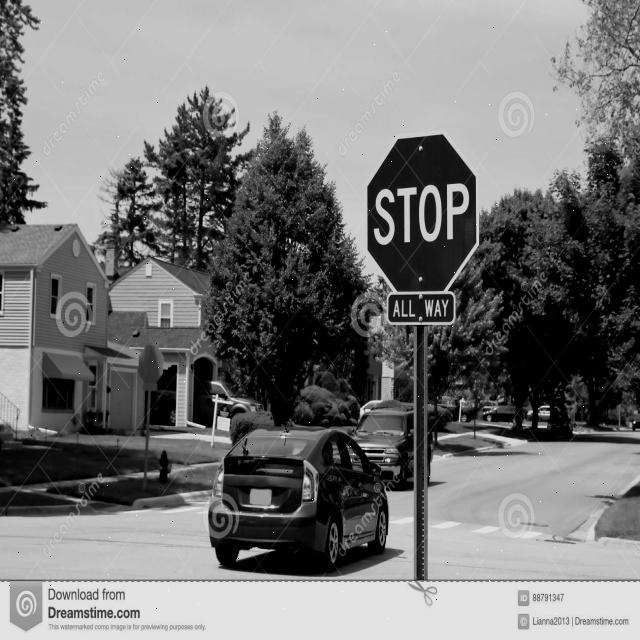Stop-sign: (348, 115, 498, 306)
